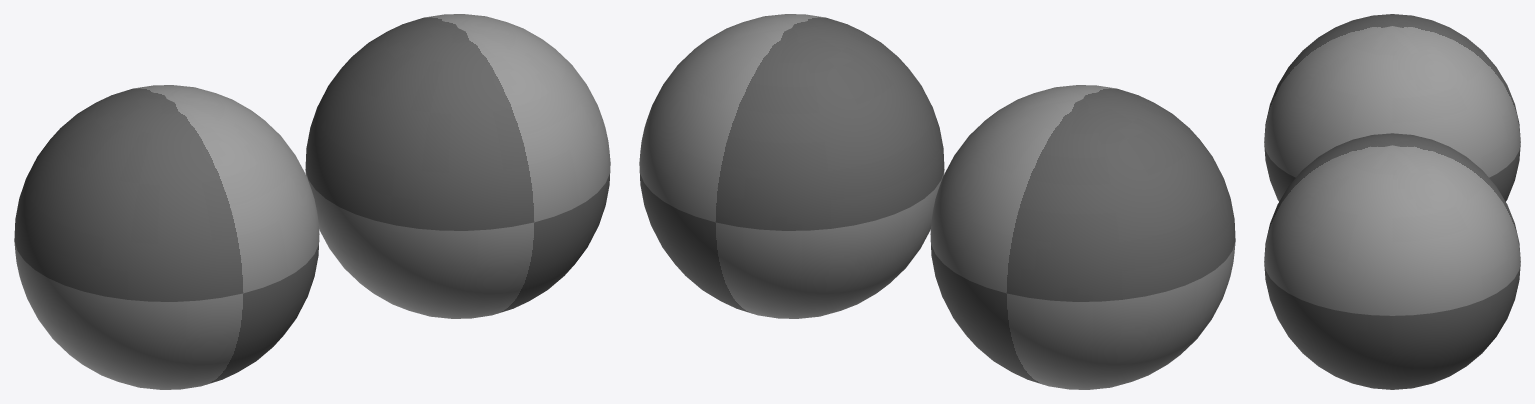
File: khronos specular balls.gltf
3 renders of one model, left to right at view 1: azimuth 30°, elevation 25°; view 2: azimuth 150°, elevation 25°; view 3: azimuth 270°, elevation 25°, orthographic. The views are drawn at different scales.
Parts seen in each view (by area): view 1: GeoSphere001, GeoSphere002; view 2: GeoSphere001, GeoSphere002; view 3: GeoSphere002, GeoSphere001.
Boxes of the visible parts, x1,y1,x2,y2 form: GeoSphere001: (14,85,319,389); GeoSphere002: (305,14,610,318); GeoSphere001: (930,85,1235,389); GeoSphere002: (639,14,944,318); GeoSphere002: (1264,133,1520,389); GeoSphere001: (1264,14,1520,201).
Size of the model in its own units: 5.11 by 2.43 by 2.43.
